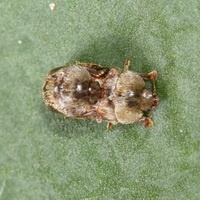insect: (42, 58, 158, 128)
